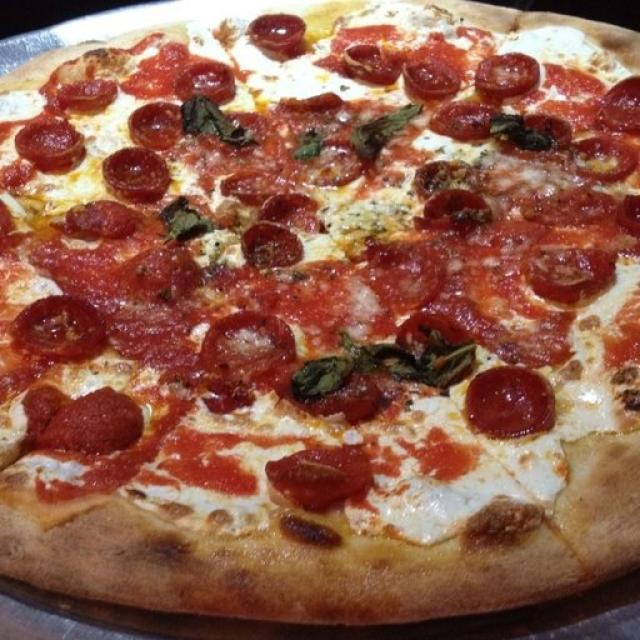Basil: (308, 339, 474, 397), (353, 100, 425, 160), (183, 101, 246, 150), (508, 113, 554, 162), (164, 189, 208, 239), (299, 125, 326, 156)
Pepperoni: (29, 389, 132, 450), (22, 300, 106, 364), (367, 239, 445, 307), (205, 313, 288, 373), (475, 373, 550, 436), (284, 453, 367, 509), (100, 153, 166, 201), (532, 245, 604, 286), (18, 120, 80, 166), (268, 191, 338, 229), (424, 195, 490, 233), (252, 218, 302, 267), (124, 106, 185, 144), (482, 51, 532, 96), (141, 252, 192, 296), (577, 134, 631, 175), (254, 12, 304, 54), (425, 160, 490, 192), (67, 203, 135, 233), (59, 71, 114, 106), (177, 60, 230, 96), (349, 43, 396, 83), (407, 61, 459, 95), (606, 80, 640, 130), (281, 94, 340, 120), (221, 175, 275, 200)
Pizza: (0, 1, 640, 627)
